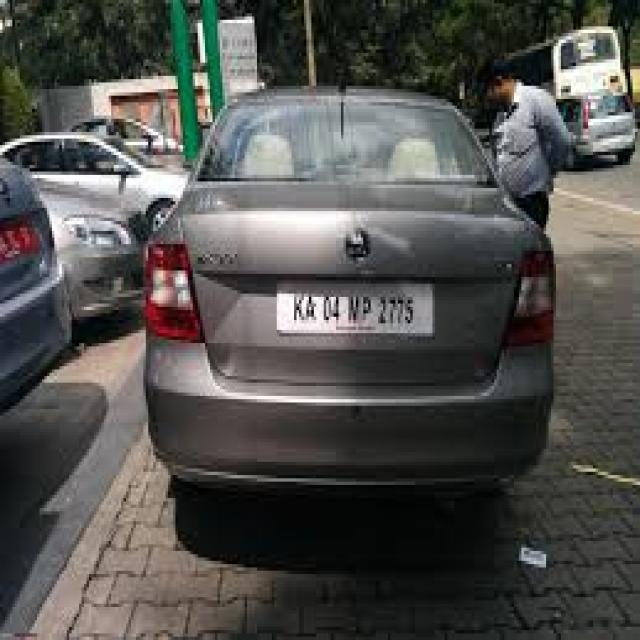Number-Plate: (281, 284, 419, 331)
